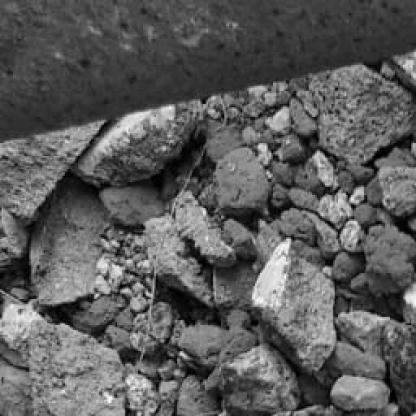cementitious_debris: (5, 55, 412, 414)
